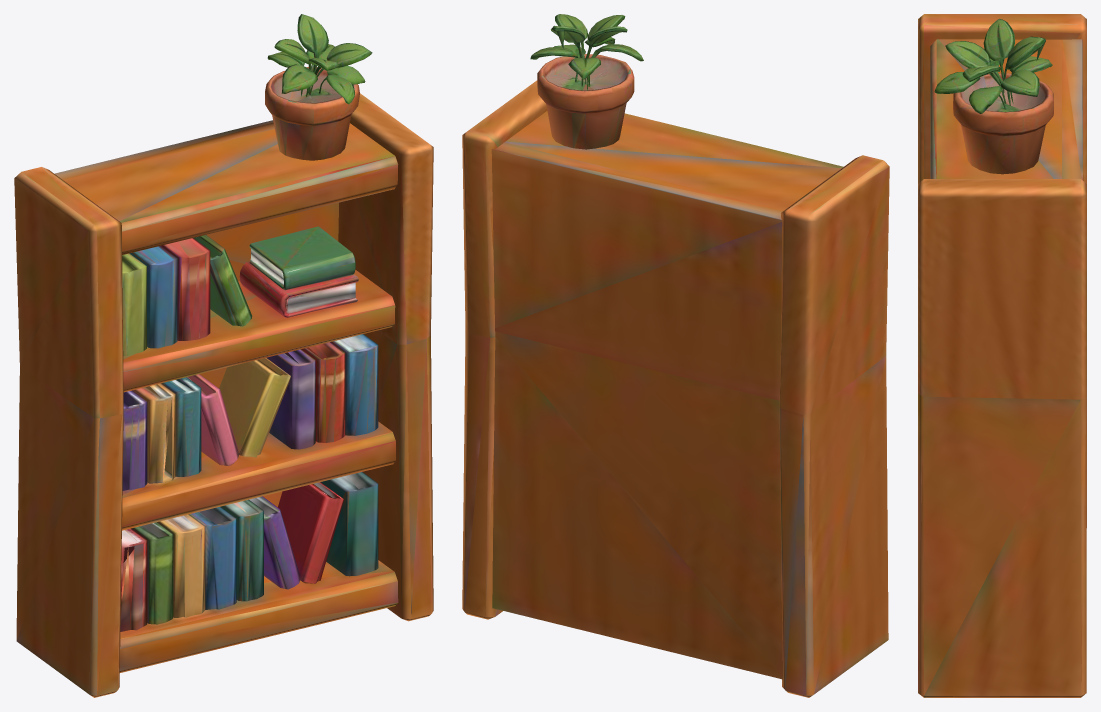
File: item-bookshelf.glb
3 views of the same model, side by side, from view 1: azimuth 30°, elevation 25°; view 2: azimuth 150°, elevation 25°; view 3: azimuth 270°, elevation 25° (orthographic). The views are drawn at different scales.
Size of the model in its own units: 0.5962 by 0.9517 by 0.2339.
Materials: 1 (1 with a texture image).
